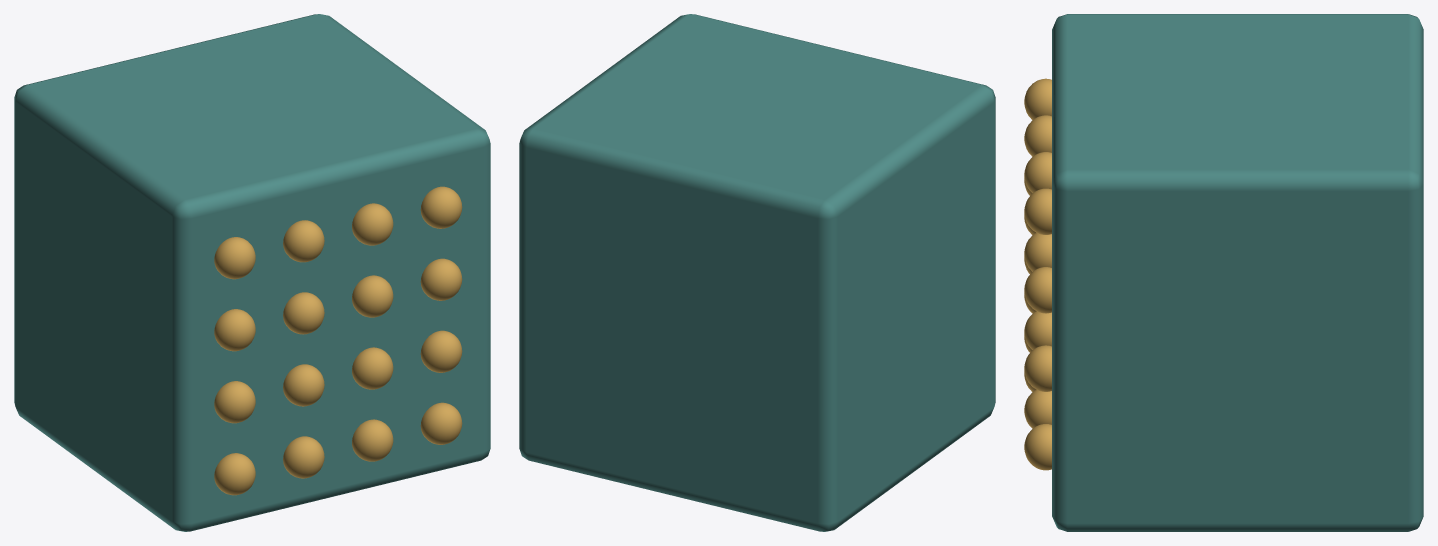
The model's file is wp-cube-tactile.glb.
3 renders of one model, left to right at view 1: azimuth 30°, elevation 25°; view 2: azimuth 150°, elevation 25°; view 3: azimuth 270°, elevation 25°, orthographic. The views are drawn at different scales.
Parts seen in each view (by area): view 1: wp-cube-tactile; view 2: wp-cube-tactile; view 3: wp-cube-tactile.
Boxes of the visible parts, x1,y1,x2,y2 form: wp-cube-tactile: (14, 14, 490, 531); wp-cube-tactile: (519, 14, 995, 531); wp-cube-tactile: (1024, 14, 1423, 531).
Size of the model in its own units: 0.1 by 0.1 by 0.1.
